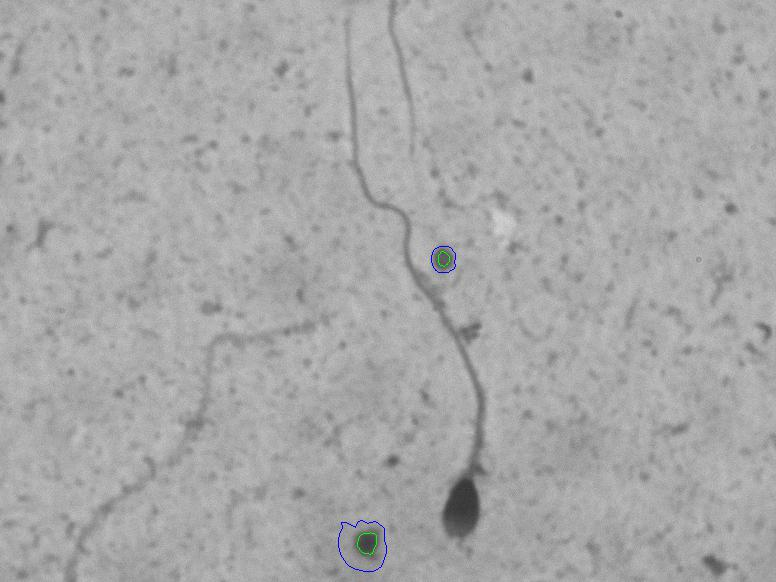Normal: (325, 17, 507, 548)
